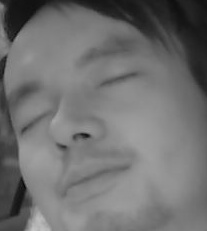blink: (18, 111, 49, 137), (97, 69, 135, 90)
mouth: (55, 152, 134, 204)
